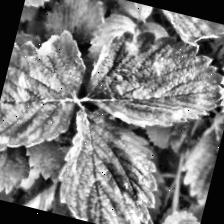Powdery Mildew Leaf: (78, 16, 224, 145), (49, 104, 175, 224), (0, 17, 96, 170), (156, 200, 203, 224)
